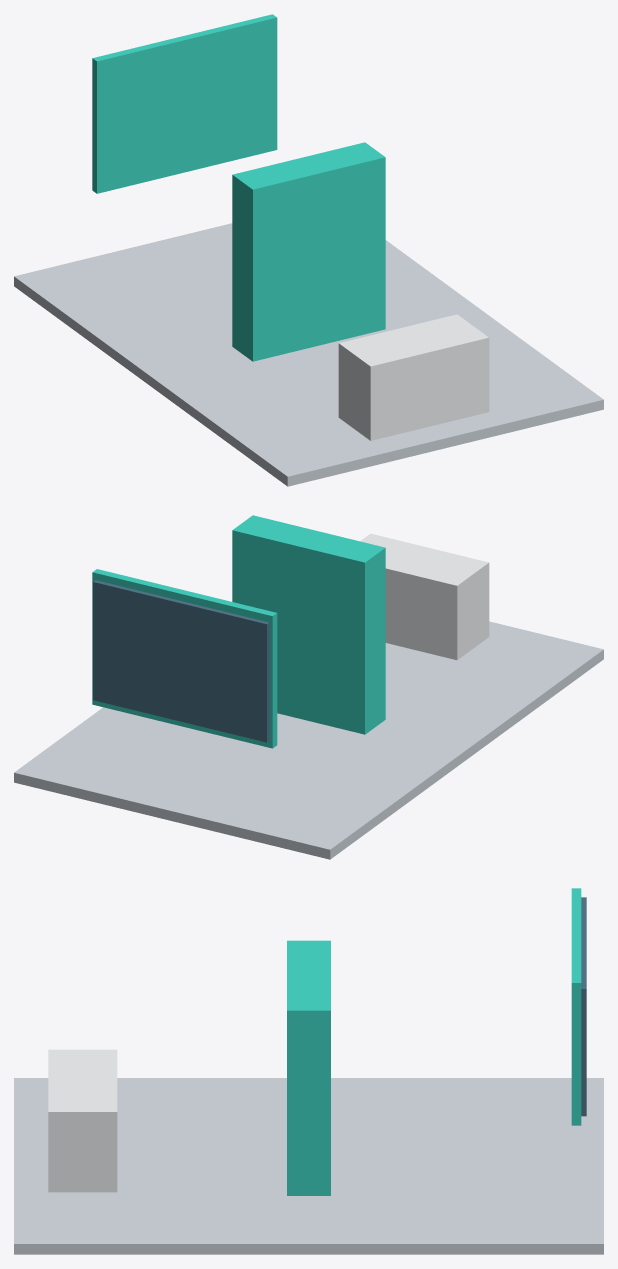
3 renders of one model, top to bottom at view 1: azimuth 30°, elevation 25°; view 2: azimuth 150°, elevation 25°; view 3: azimuth 270°, elevation 25°, orthographic. The views are drawn at different scales.
Visible parts, largest first — view 1: Exhibition Booth Concept; view 2: Exhibition Booth Concept; view 3: Exhibition Booth Concept.
Boxes of the visible parts, left/top/right/bottom form: Exhibition Booth Concept: left=14, top=14, right=603, bottom=486; Exhibition Booth Concept: left=14, top=515, right=603, bottom=859; Exhibition Booth Concept: left=14, top=888, right=603, bottom=1254.
Bounding box in the file's own units: 4 × 2.65 × 6.
